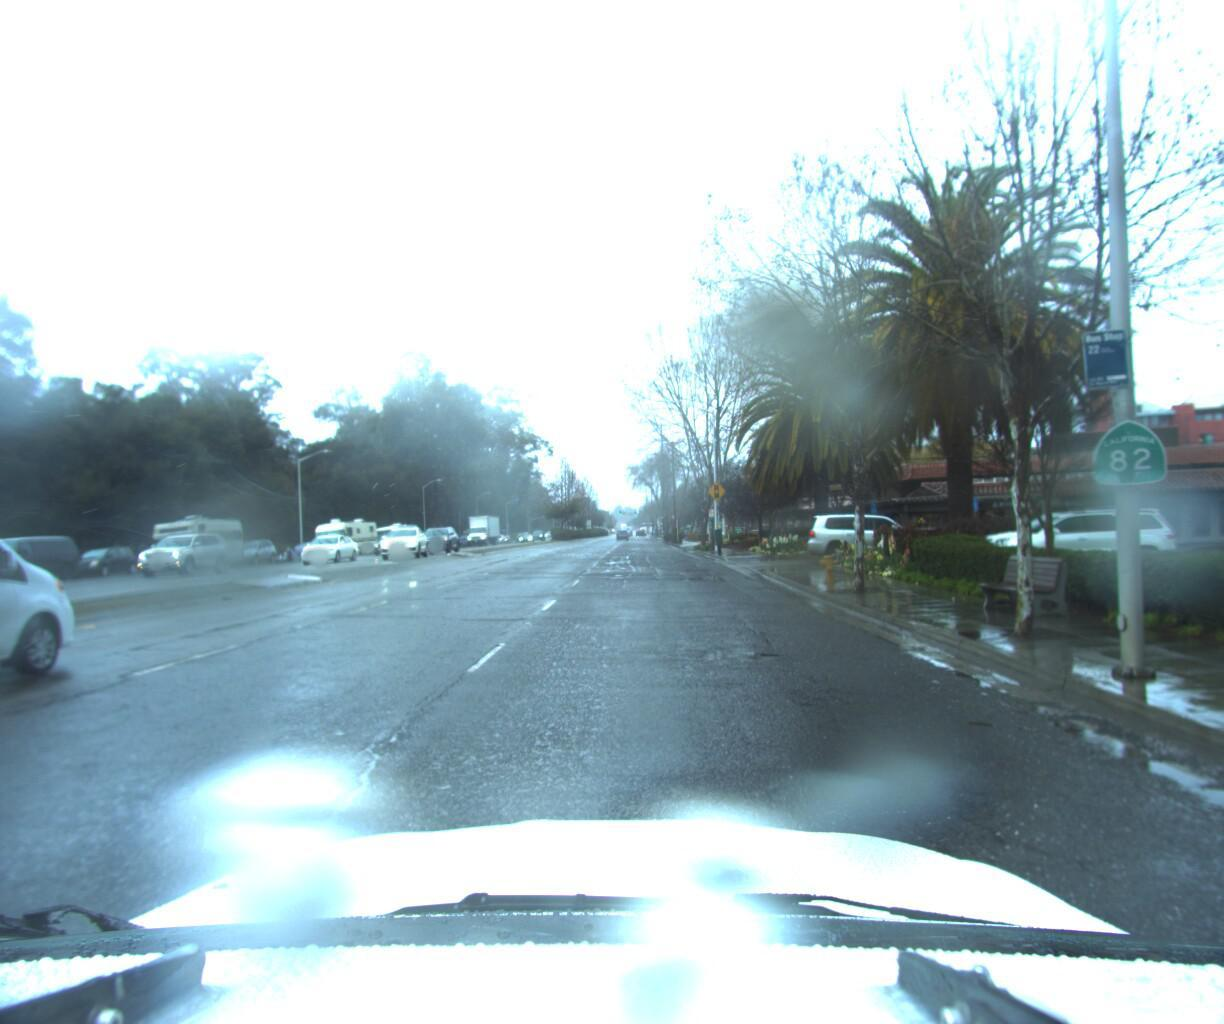car: (0, 491, 115, 757), (958, 498, 1181, 584), (797, 500, 943, 562), (0, 536, 91, 593), (134, 532, 239, 578), (62, 546, 146, 582), (296, 530, 363, 563), (376, 523, 435, 558), (223, 538, 281, 567), (416, 524, 463, 554)
motorcycle: (264, 541, 305, 562)
other_vehicle: (149, 515, 249, 573), (306, 516, 382, 559)
